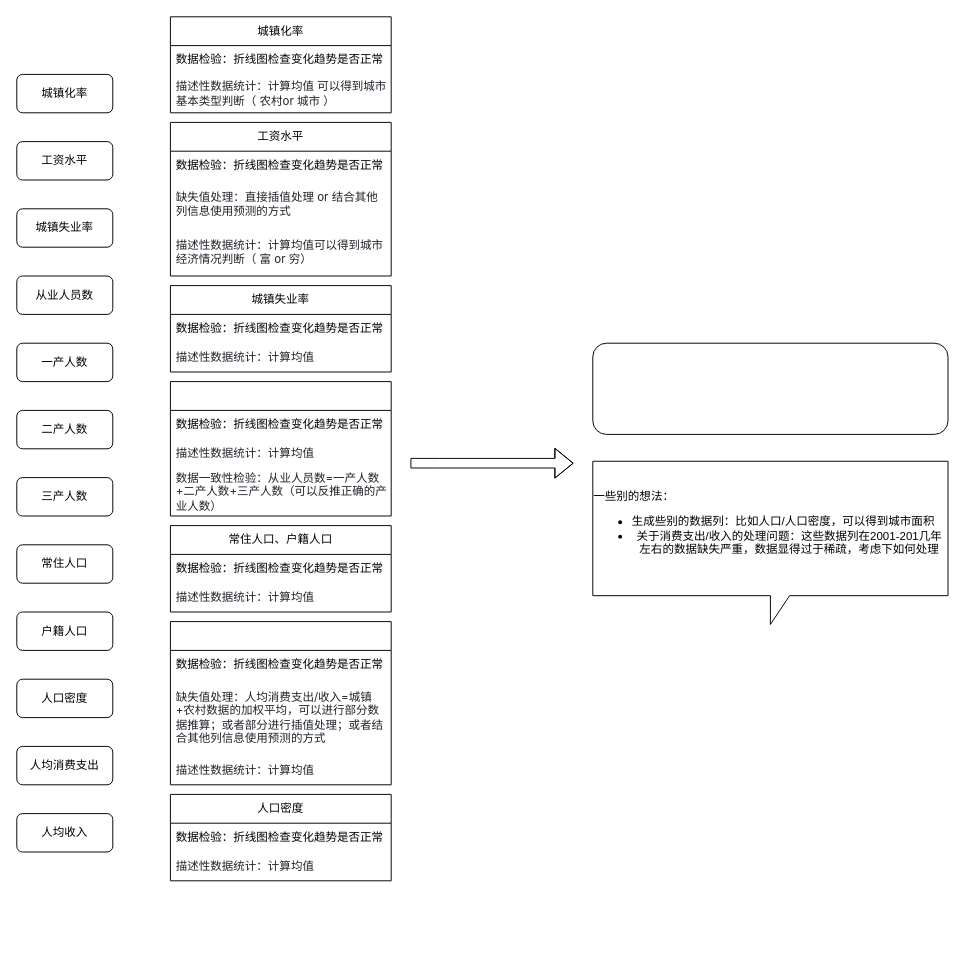
Some shapes in this 965 by 963 pixel diagram are drawn without their labels. Each missing label, with the box of its shape:
从业人员数、一、二、三产人数: (169, 381, 391, 516)
得到所有城市的各列数据均值矩阵，检验各列数据是否符合正态分布，计算皮尔逊相关系数，初步得到各列的线性相关性: (592, 342, 948, 434)
消费支出、人均收入: (169, 621, 391, 785)
